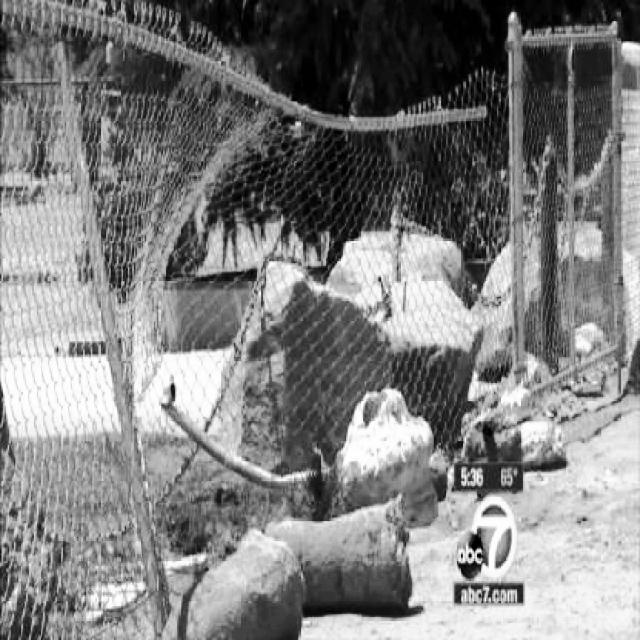anomaly-fence: (156, 2, 589, 485)
